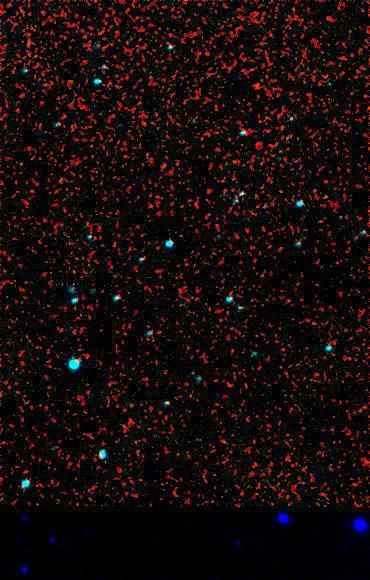star: (242, 68, 272, 98)
